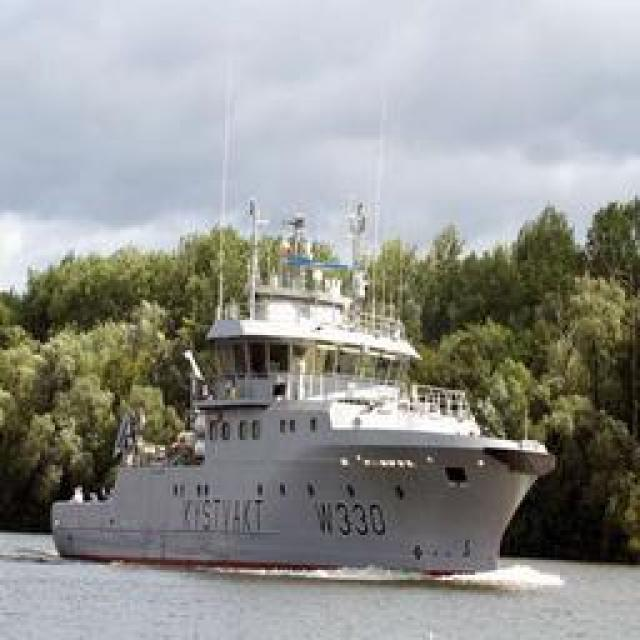ship2: (49, 49, 556, 578)
